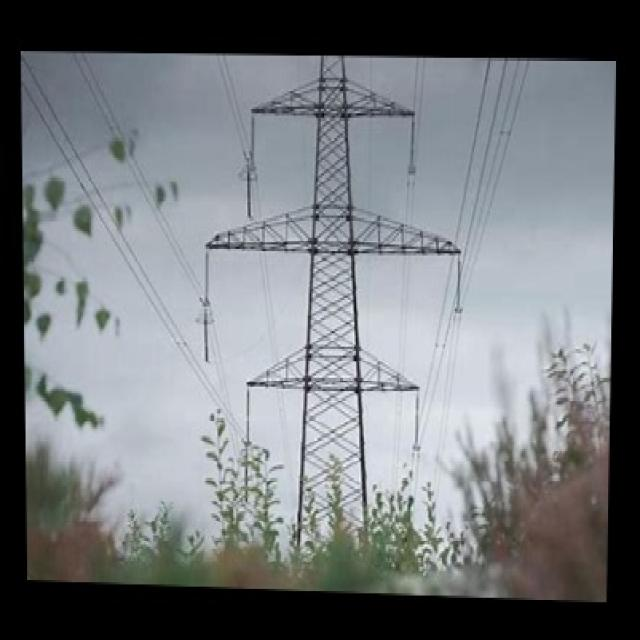utility poles: (212, 374, 466, 583)
